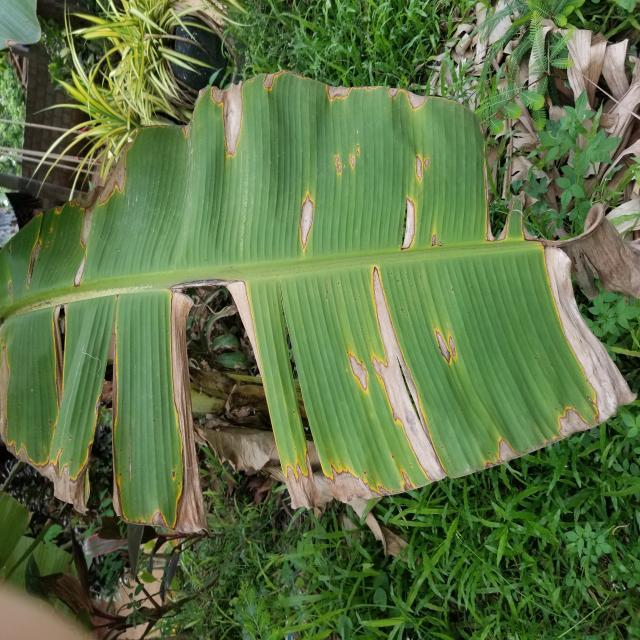Early_rust: (0, 59, 640, 541)
